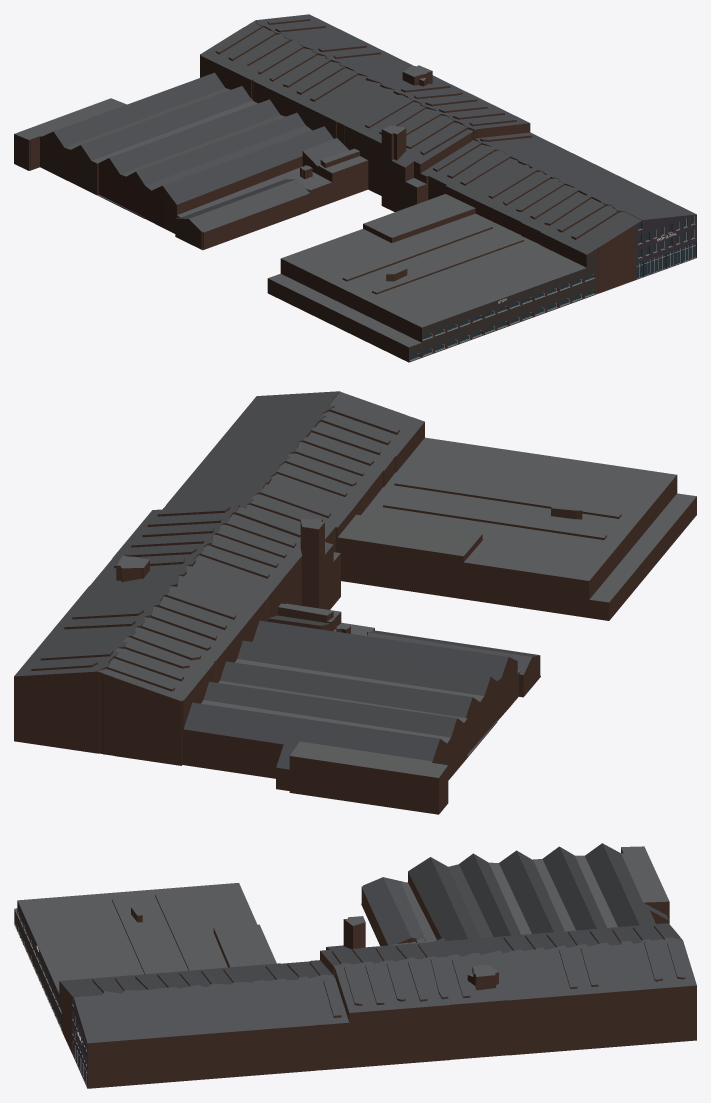
File: recipe-large-hamerkanaal-209-243116.glb
3 renders of one model, top to bottom at view 1: azimuth 30°, elevation 25°; view 2: azimuth 150°, elevation 25°; view 3: azimuth 270°, elevation 25°, orthographic. The views are drawn at different scales.
Visible parts, largest first — view 1: hamerkanaal-209-243116; view 2: hamerkanaal-209-243116; view 3: hamerkanaal-209-243116.
Part boxes in pixels (<box>): hamerkanaal-209-243116: <box>14,14,696,362</box>; hamerkanaal-209-243116: <box>14,391,696,814</box>; hamerkanaal-209-243116: <box>14,843,696,1088</box>.
Size of the model in its own units: 113 by 19.94 by 155.
